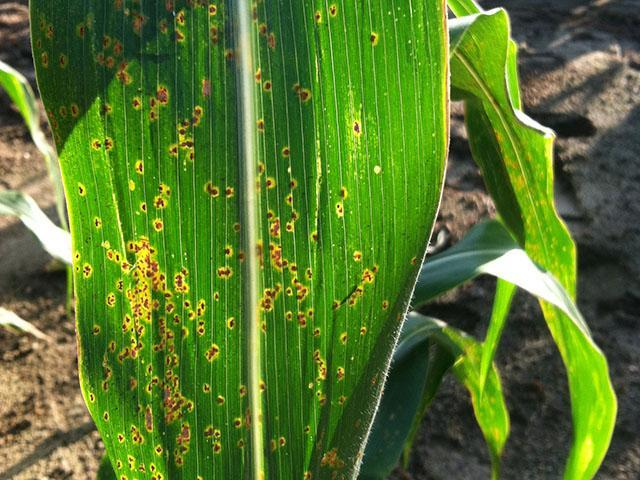Corn_Common_Rust: (32, 0, 244, 478), (255, 2, 395, 480), (430, 0, 470, 229), (408, 248, 437, 276)
